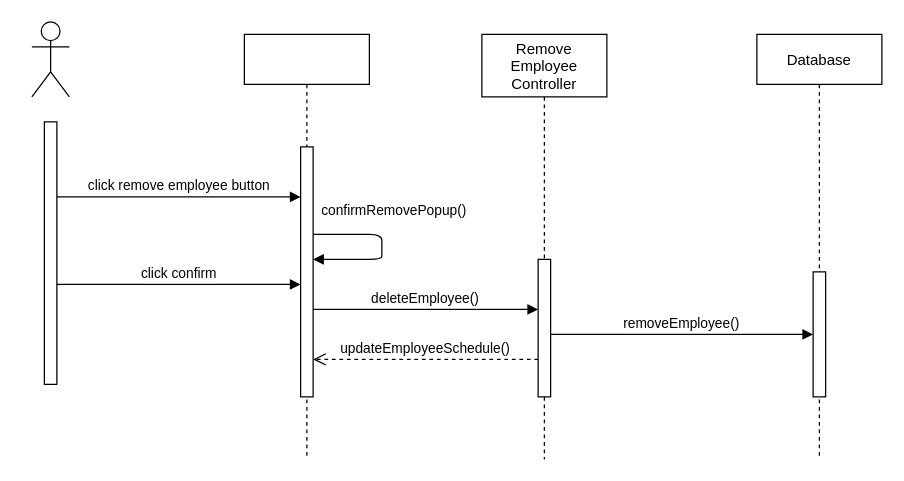
Some shapes in this 904 by 481 pixel diagram are drawn without their labels. Here are the shapes that lost their labels. From the top down, the box of each, then its label:
(31, 21, 69, 97): Manager
(243, 33, 369, 459): ManageEmployee View
